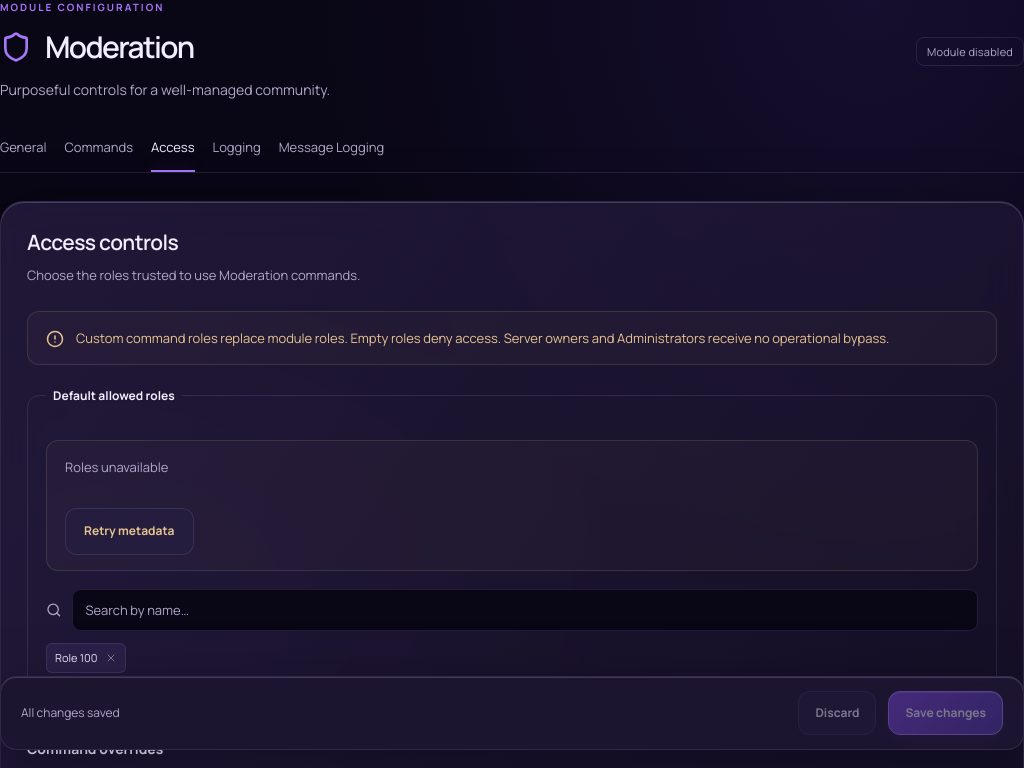
Test: administration interactions › loads Access without roles, retains configured IDs and retries only metadata
Check: the text "Role 100" is shown, box [46, 643, 126, 673]
Check: the text "Roles unavailable" is shown, box [65, 458, 168, 476]
Click the button "Retry metadata" at coordinates (129, 532), box [65, 508, 194, 555]
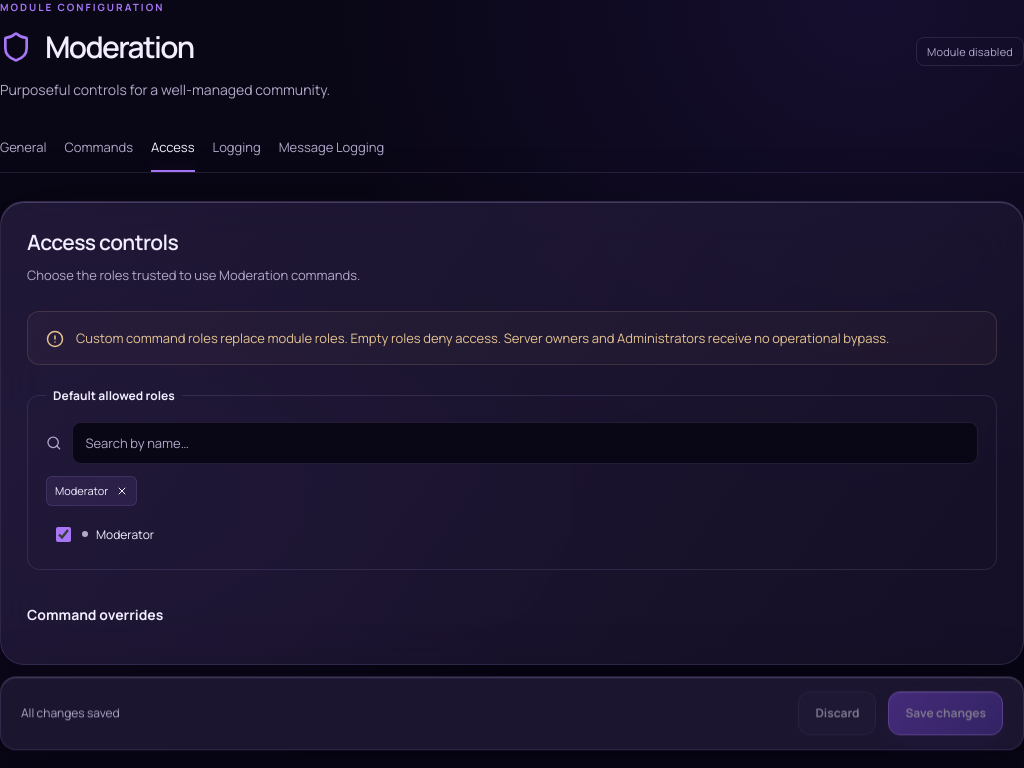
Check: the checkbox labelled "Moderator" is checked, box [56, 527, 71, 542]
